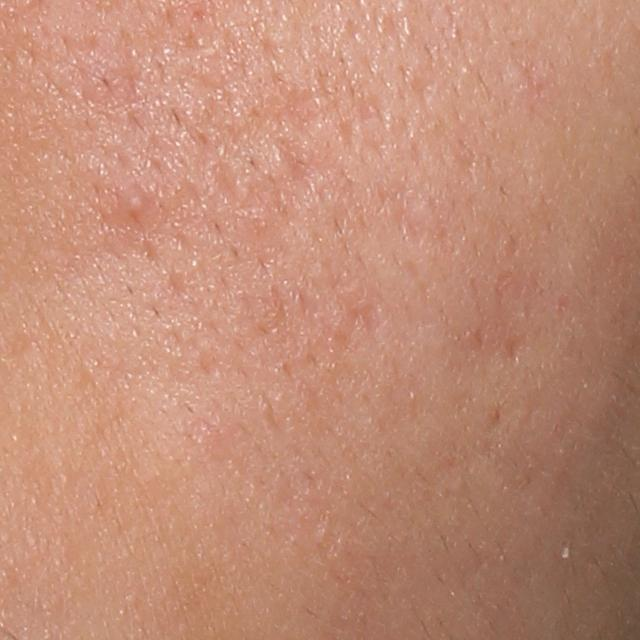atrophic_scar: (455, 307, 530, 374), (205, 147, 254, 218)
papule: (119, 187, 150, 215)
